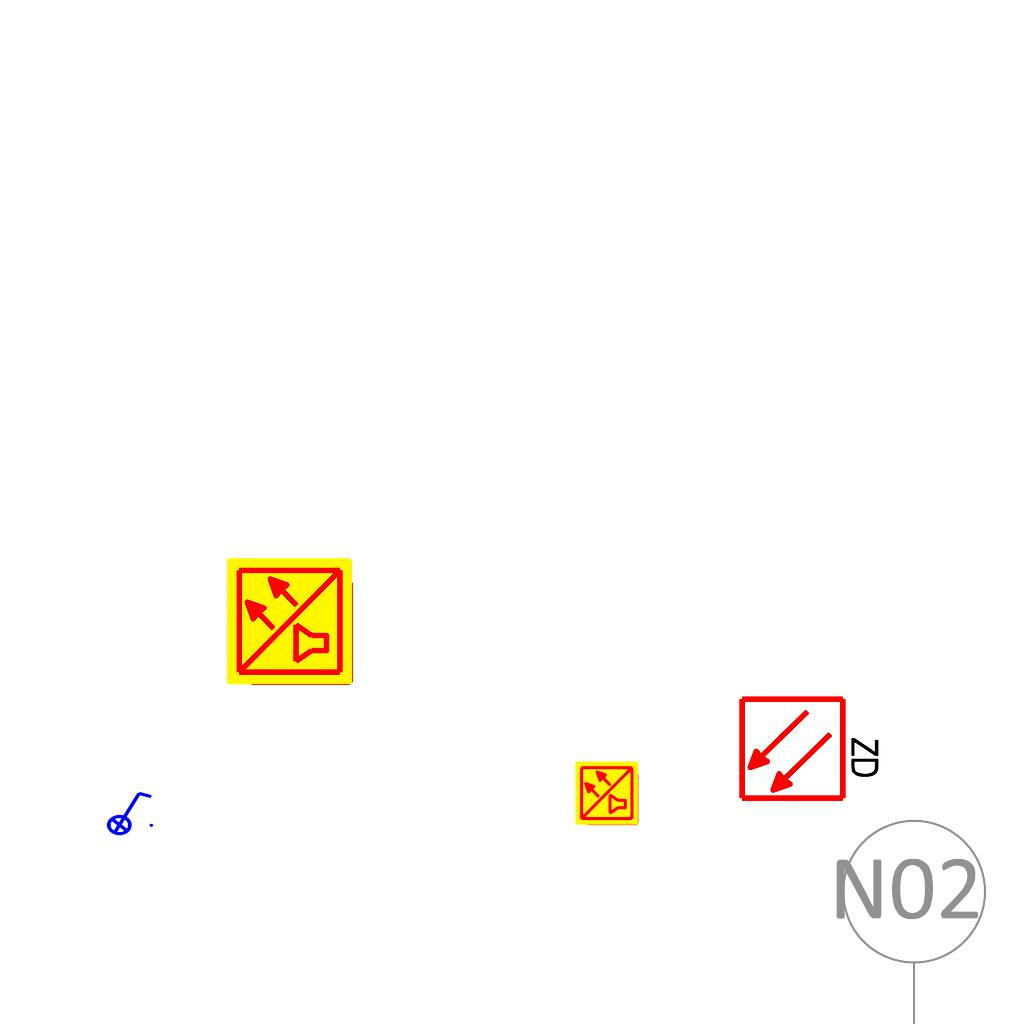Ausschalter_beleuchtet: (100, 788, 156, 836)
OKW_Multisensormelder_(Kombination_optischer_Rauch-Kahlenmonoxid_Waerme-Melder): (224, 555, 356, 687), (574, 760, 640, 826)
ZD_Melder_in_Zwischendecke_mit_Revisionsoeffnung_mind_40_x_40_cm: (737, 690, 886, 804)
